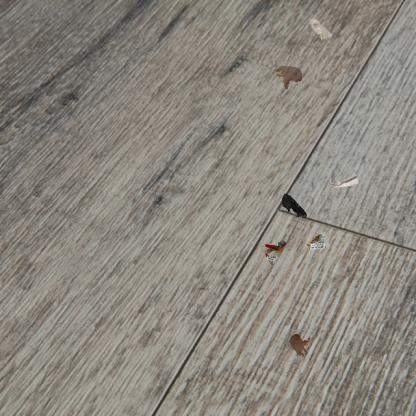dirty: (280, 192, 310, 221), (329, 167, 361, 190), (262, 239, 288, 267), (304, 230, 332, 251), (308, 17, 332, 41)
liquid: (272, 65, 304, 91), (288, 333, 311, 359)
